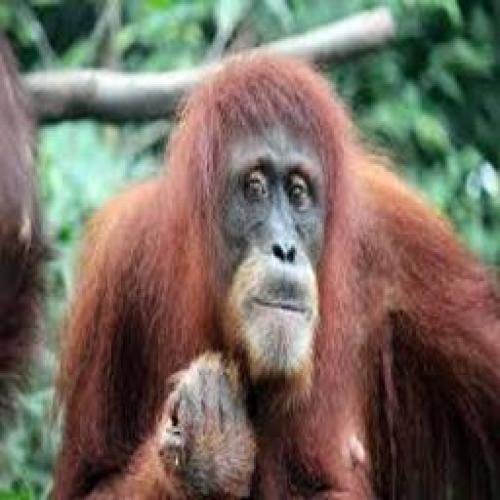orangutan-endangered: (64, 54, 500, 500)
